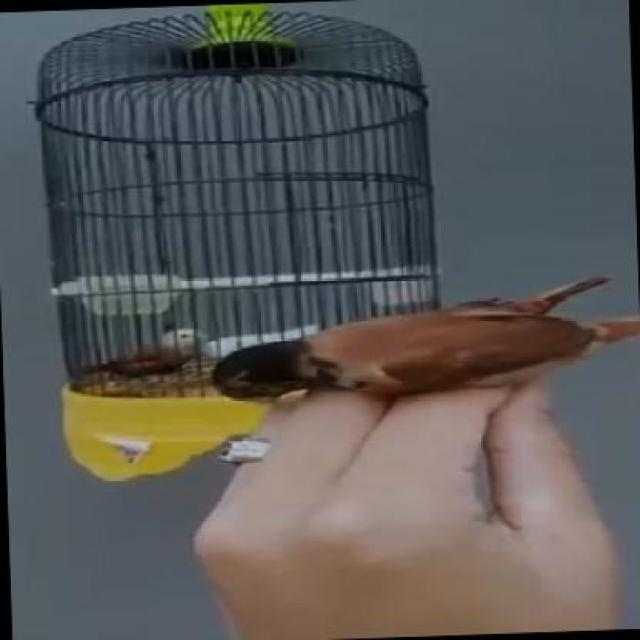Bird: (217, 331, 640, 394), (87, 316, 198, 388)
